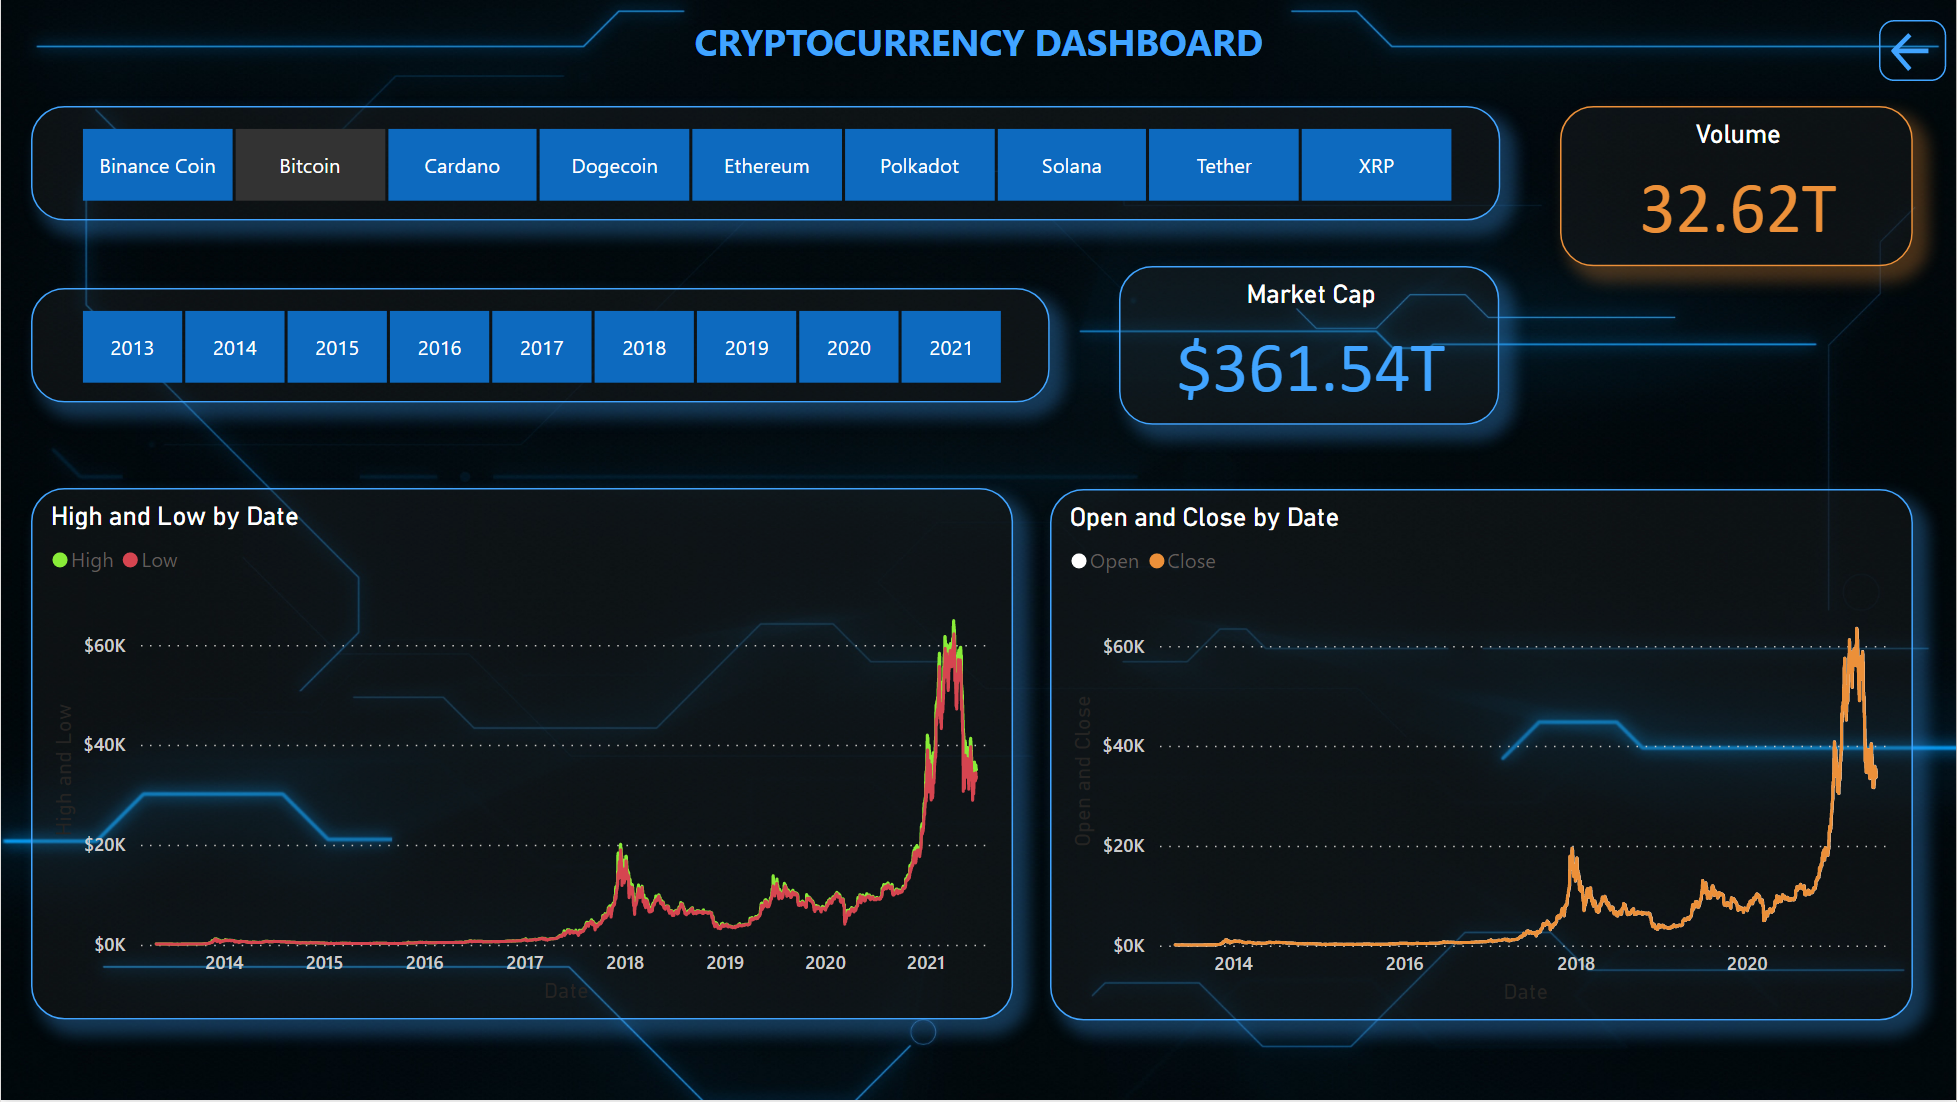

What the dashboard file says about the page in this screenshot:
{"tool":"powerbi","page":{"name":"Dashboard Page 2","canvas":[1280,720],"ordinal":1},"visuals":[{"type":"slicer","fields":{"Values":["Data.Name"]},"box":[19.6,69.4,962,74.6],"z":0},{"type":"slicer","fields":{"Values":["Data.Year"]},"box":[19.6,188.6,667.2,75.3],"z":1000},{"type":"lineChart","fields":{"Category":["Data.Date"],"Y":["Sum(Data.High)","Sum(Data.Low)"]},"box":[19.6,319.3,643.3,348.1],"z":2000},{"type":"actionButton","box":[1229.6,13.1,44.5,39.9],"z":3000},{"type":"textbox","box":[194.4,5.9,891.3,47.1],"z":4000},{"type":"card","title":"Market Cap","fields":{"Values":["Sum(Data.Marketcap)"]},"box":[732,174.2,249.5,104.1],"z":5000},{"type":"card","title":"Volume","fields":{"Values":["Sum(Data.Volume)"]},"box":[1020.7,69.4,231.1,104.8],"z":6000},{"type":"lineChart","fields":{"Category":["Data.Date"],"Y":["Sum(Data.Open)","Sum(Data.Close)"]},"box":[686.8,320.2,565,347.7],"z":7000}]}

Visuals, with their boxes in screenshot pixels (x1, y1, x2, y2), scaled from the page's 1280x720 canvas onto the 1957x1102 screenshot:
slicer - Data.Name: rect(30, 106, 1501, 220)
slicer - Data.Year: rect(30, 289, 1050, 404)
lineChart - Data.Date x Sum(Data.High): rect(30, 489, 1014, 1021)
actionButton: rect(1880, 20, 1948, 81)
textbox: rect(297, 9, 1660, 81)
"Market Cap" card: rect(1119, 267, 1501, 426)
"Volume" card: rect(1561, 106, 1914, 267)
lineChart - Data.Date x Sum(Data.Open): rect(1050, 490, 1914, 1022)
